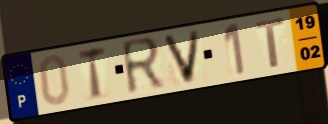0: (36, 52, 73, 109)
1: (220, 21, 247, 79)
R: (119, 35, 167, 99)
T: (76, 44, 108, 102), (253, 16, 287, 70)
V: (160, 28, 203, 87)
